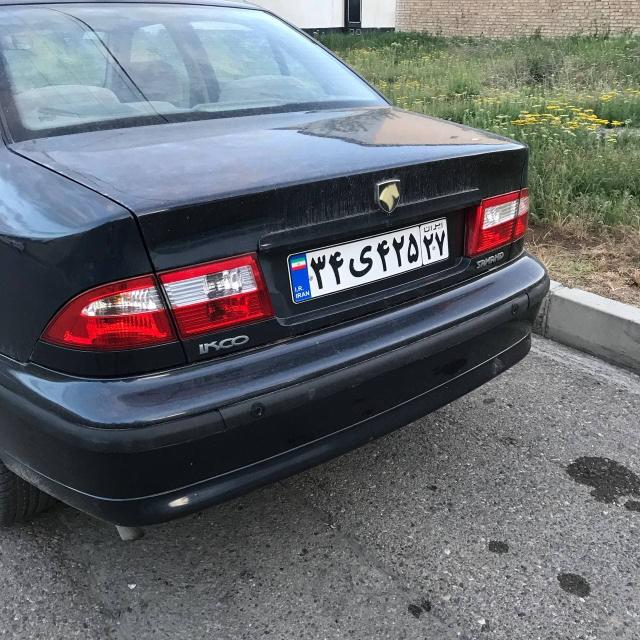Plates: (282, 209, 456, 303)
